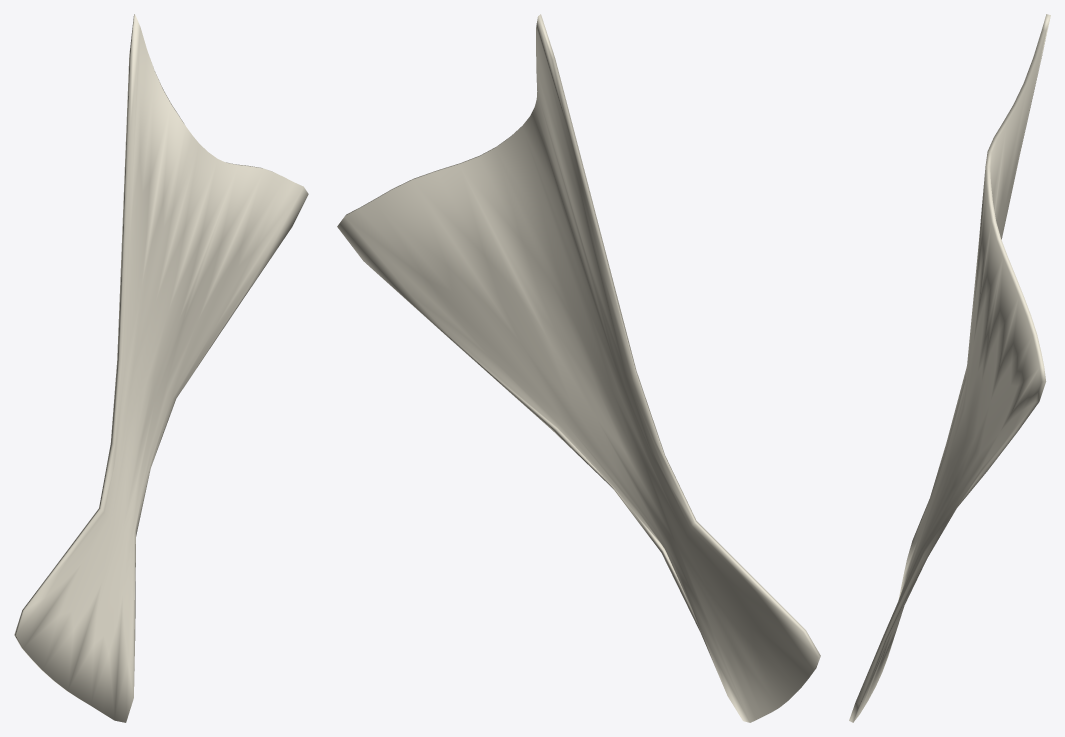
3 views of the same model, side by side, from view 1: azimuth 30°, elevation 25°; view 2: azimuth 150°, elevation 25°; view 3: azimuth 270°, elevation 25° (orthographic). The views are drawn at different scales.
Parts seen in each view (by area): view 1: ZA_62f9fde33e153e51; view 2: ZA_62f9fde33e153e51; view 3: ZA_62f9fde33e153e51.
Boxes of the visible parts, x1,y1,x2,y2 form: ZA_62f9fde33e153e51: (14,14,308,722); ZA_62f9fde33e153e51: (337,14,820,722); ZA_62f9fde33e153e51: (849,14,1050,722).
Bounding box in the file's own units: 0.0511 × 0.0881 × 0.0212.
